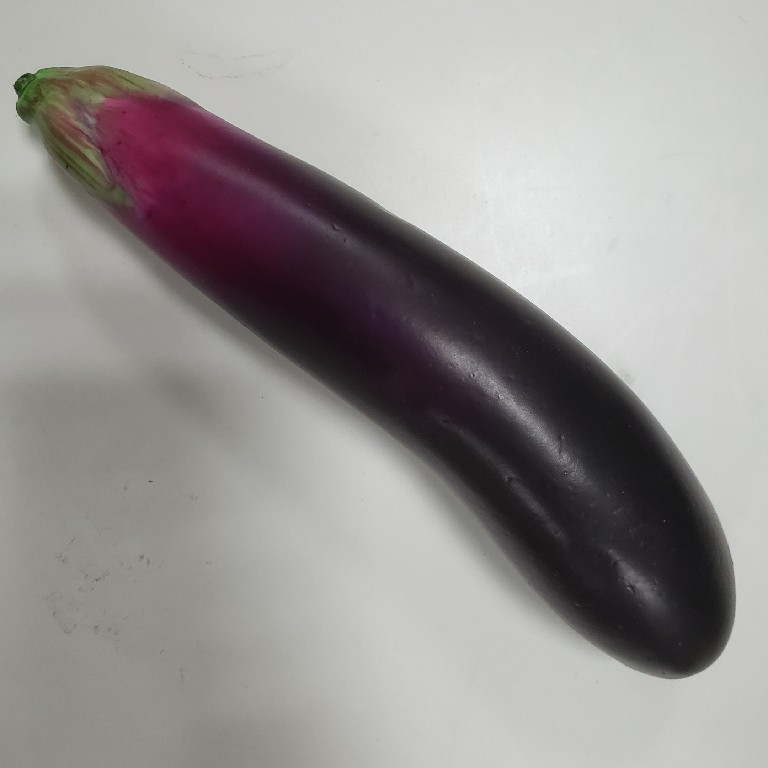fruit_eggplant: (12, 62, 742, 685)
